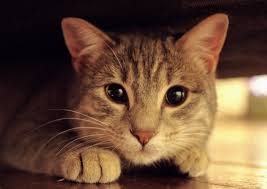cat: (51, 10, 236, 172)
